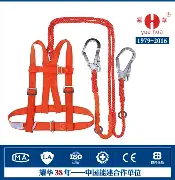safety belt: (16, 20, 134, 135)
